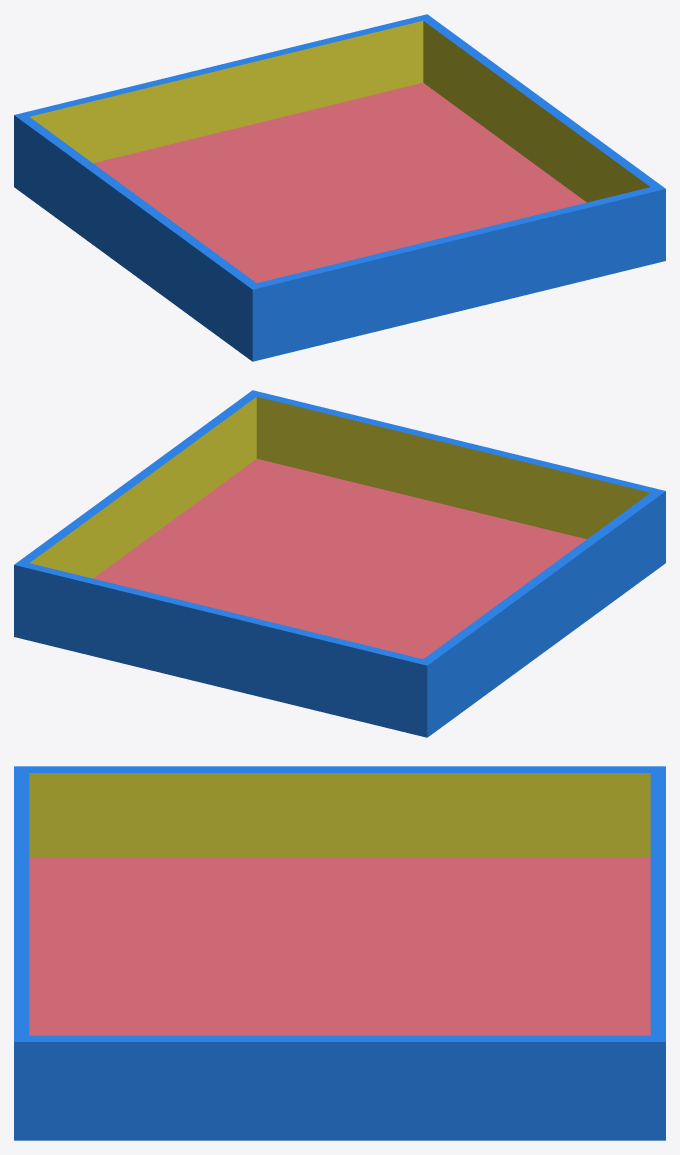
File: piscina.fbx
3 renders of one model, top to bottom at view 1: azimuth 30°, elevation 25°; view 2: azimuth 150°, elevation 25°; view 3: azimuth 270°, elevation 25°, orthographic. The views are drawn at different scales.
Visible parts, largest first — view 1: Cube; view 2: Cube; view 3: Cube.
Part boxes in pixels (x1=…): Cube: x1=14, y1=14, x2=665, y2=361; Cube: x1=14, y1=390, x2=665, y2=737; Cube: x1=14, y1=766, x2=665, y2=1140.
Bounding box in the file's own units: 6000 × 1000 × 6000.
